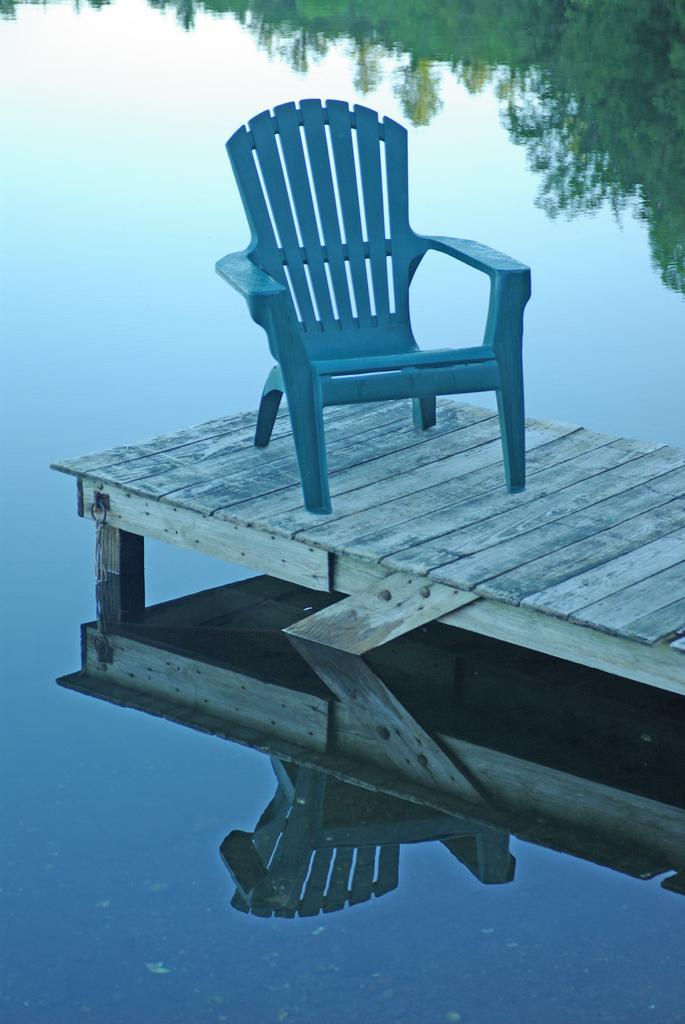Chair: (199, 92, 558, 538)
